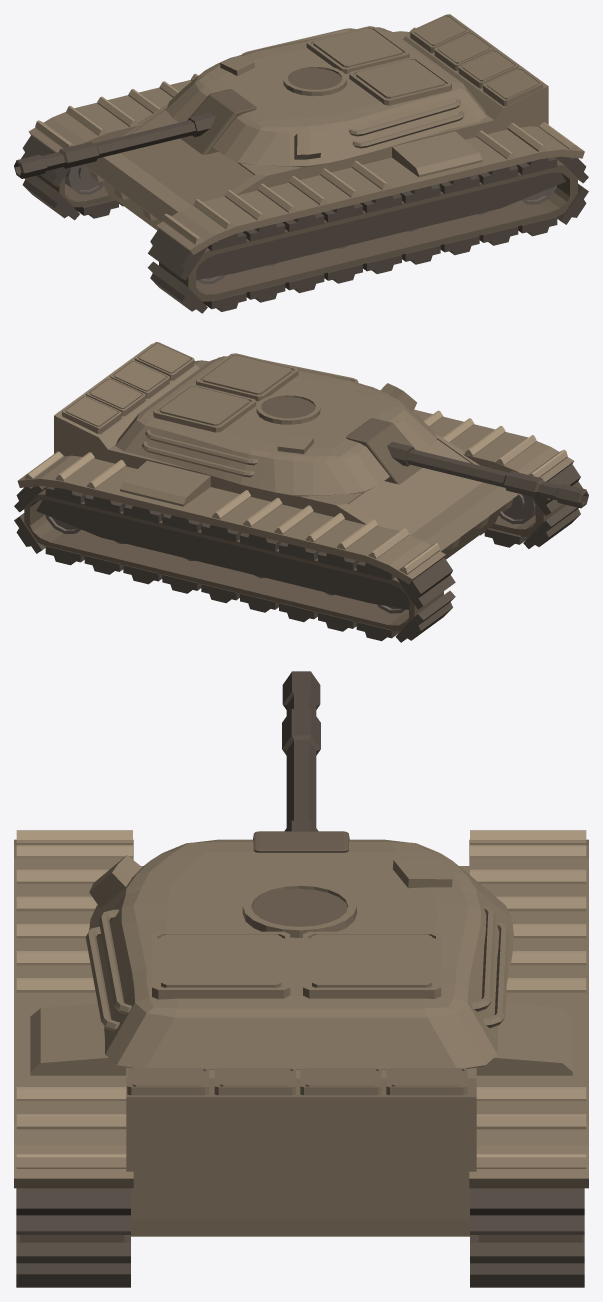
Rendered from tank-2.glb.
3 views of the same model, one above another, from view 1: azimuth 30°, elevation 25°; view 2: azimuth 150°, elevation 25°; view 3: azimuth 270°, elevation 25° (orthographic). The views are drawn at different scales.
Parts seen in each view (by area): view 1: Tank_body_Cube.009, Tank_Turret_Cube, TrackMesh.L_Cube.051, Tank_Gun_Cube.012, TrackMesh.R_Cube.000; view 2: Tank_body_Cube.009, Tank_Turret_Cube, TrackMesh.R_Cube.000, Tank_Gun_Cube.012, TrackMesh.L_Cube.051; view 3: Tank_body_Cube.009, Tank_Turret_Cube, TrackMesh.R_Cube.000, TrackMesh.L_Cube.051, Tank_Gun_Cube.012.
Part boxes in pixels (<box>): Tank_body_Cube.009: <box>28,14,584,301</box>; Tank_Turret_Cube: <box>166,26,486,167</box>; TrackMesh.L_Cube.051: <box>147,156,588,313</box>; Tank_Gun_Cube.012: <box>14,112,215,178</box>; TrackMesh.R_Cube.000: <box>21,135,123,220</box>; Tank_body_Cube.009: <box>17,342,573,630</box>; Tank_Turret_Cube: <box>115,353,436,496</box>; TrackMesh.R_Cube.000: <box>14,486,455,642</box>; Tank_Gun_Cube.012: <box>387,441,588,508</box>; TrackMesh.L_Cube.051: <box>480,464,582,548</box>; Tank_body_Cube.009: <box>14,830,588,1242</box>; Tank_Turret_Cube: <box>85,831,513,1069</box>; TrackMesh.R_Cube.000: <box>470,1188,584,1287</box>; TrackMesh.L_Cube.051: <box>16,1188,130,1287</box>; Tank_Gun_Cube.012: <box>282,671,320,831</box>.
Size of the model in its own units: 17.68 by 4.62 by 10.09.
